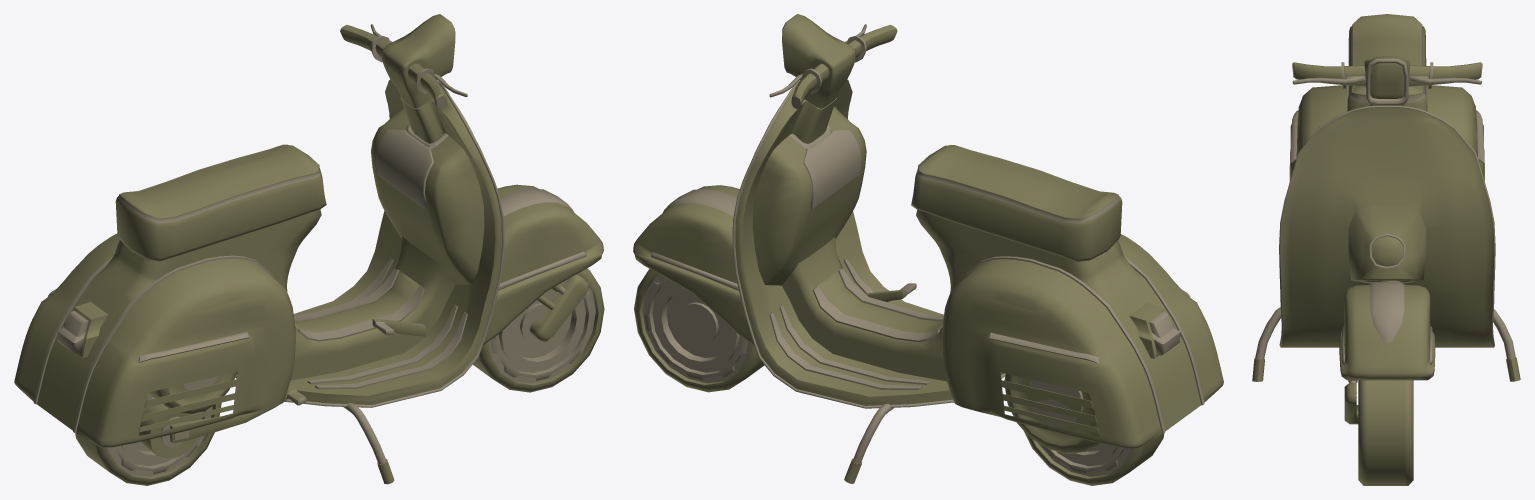
The model's file is VespaFINAL.fbx.
3 views of the same model, side by side, from view 1: azimuth 30°, elevation 25°; view 2: azimuth 150°, elevation 25°; view 3: azimuth 270°, elevation 25° (orthographic).
Visible parts, largest first — view 1: Scooter Body, Plane005, Front Mudguard, Frontal Wheel, Handles, Frontal Wheel001, Box004, Box003, Cylinder007 (×2), Cylinder003, Box001, Cylinder004; view 2: Scooter Body, Plane005, Front Mudguard, Frontal Wheel, Handles, Frontal Wheel001, Cylinder002, Box004, Cylinder007; view 3: Scooter Body, Front Mudguard, Frontal Wheel, Handles, Plane005, Cylinder007, Box003.
Part boxes in pixels (box(x1,y1,x2,y2)): Scooter Body: box(14, 79, 504, 447); Plane005: box(115, 144, 326, 261); Front Mudguard: box(482, 184, 603, 345); Frontal Wheel: box(473, 268, 604, 392); Handles: box(340, 14, 467, 109); Frontal Wheel001: box(75, 393, 221, 485); Box004: box(57, 301, 108, 357); Box003: box(529, 274, 589, 341); Cylinder007 (×2): box(343, 318, 425, 484); Cylinder003: box(138, 404, 198, 459); Box001: box(170, 386, 306, 443); Cylinder004: box(149, 372, 236, 414); Scooter Body: box(732, 79, 1223, 448); Plane005: box(911, 145, 1122, 261); Front Mudguard: box(633, 185, 754, 345); Frontal Wheel: box(634, 269, 764, 392); Handles: box(769, 14, 897, 109); Frontal Wheel001: box(1023, 430, 1164, 485); Cylinder002: box(1004, 373, 1099, 454); Box004: box(1129, 302, 1180, 358); Cylinder007: box(844, 404, 893, 483); Scooter Body: box(1279, 85, 1495, 347); Front Mudguard: box(1339, 282, 1435, 380); Frontal Wheel: box(1358, 380, 1413, 485); Handles: box(1292, 56, 1482, 105); Plane005: box(1347, 14, 1427, 111); Cylinder007: box(1252, 307, 1520, 381); Box003: box(1344, 382, 1358, 424).
Bounding box in the file's own units: 34.35 × 23.59 × 15.01.
